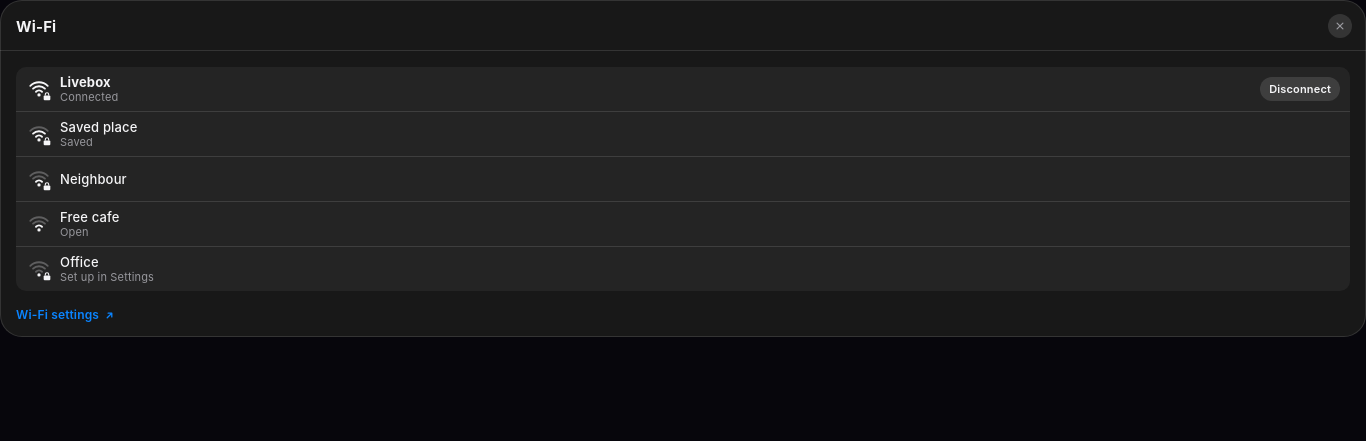
Test case: the list refreshes while open and doesn't move the row being typed in
The image size is (1366, 441).
Click the button "Neighbour" at (93, 179), box [16,157,1350,201]
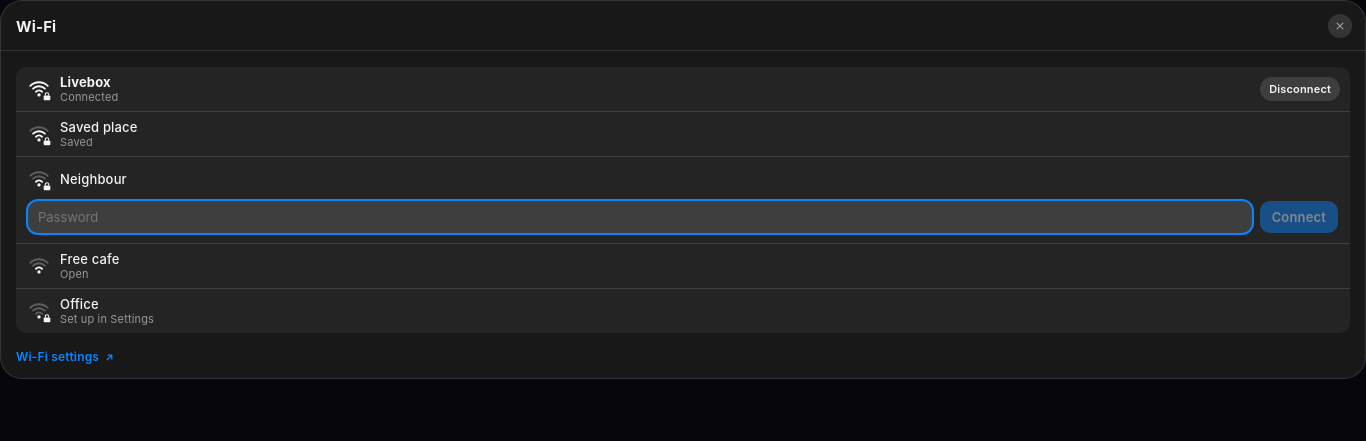
Type "half typed" into the password field named "Password for Neighbour" at (640, 217), box [28,201,1252,233]
Wait 3000 ms
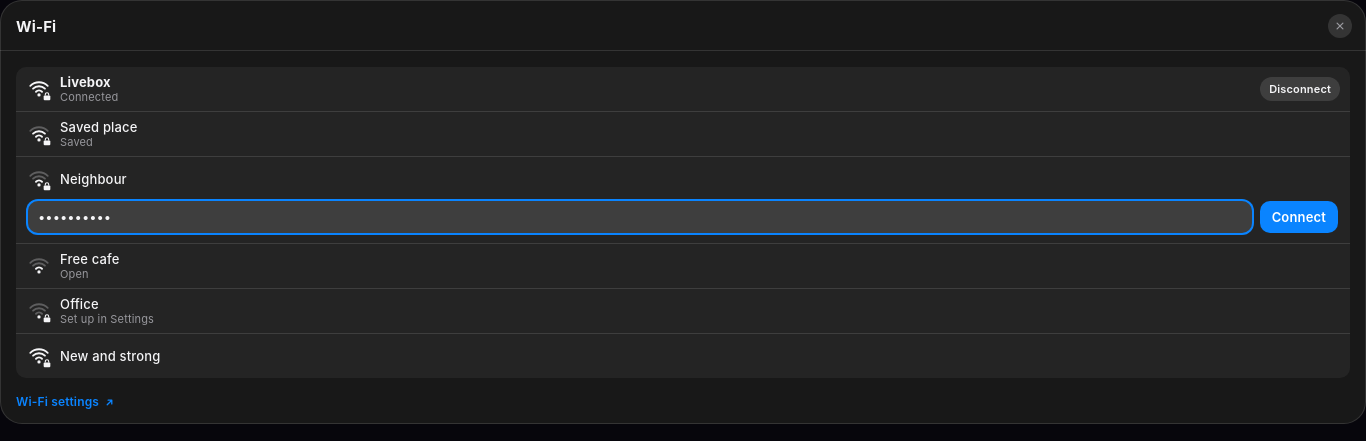
Now the text "New and strong" is shown, box [60,348,160,364]
